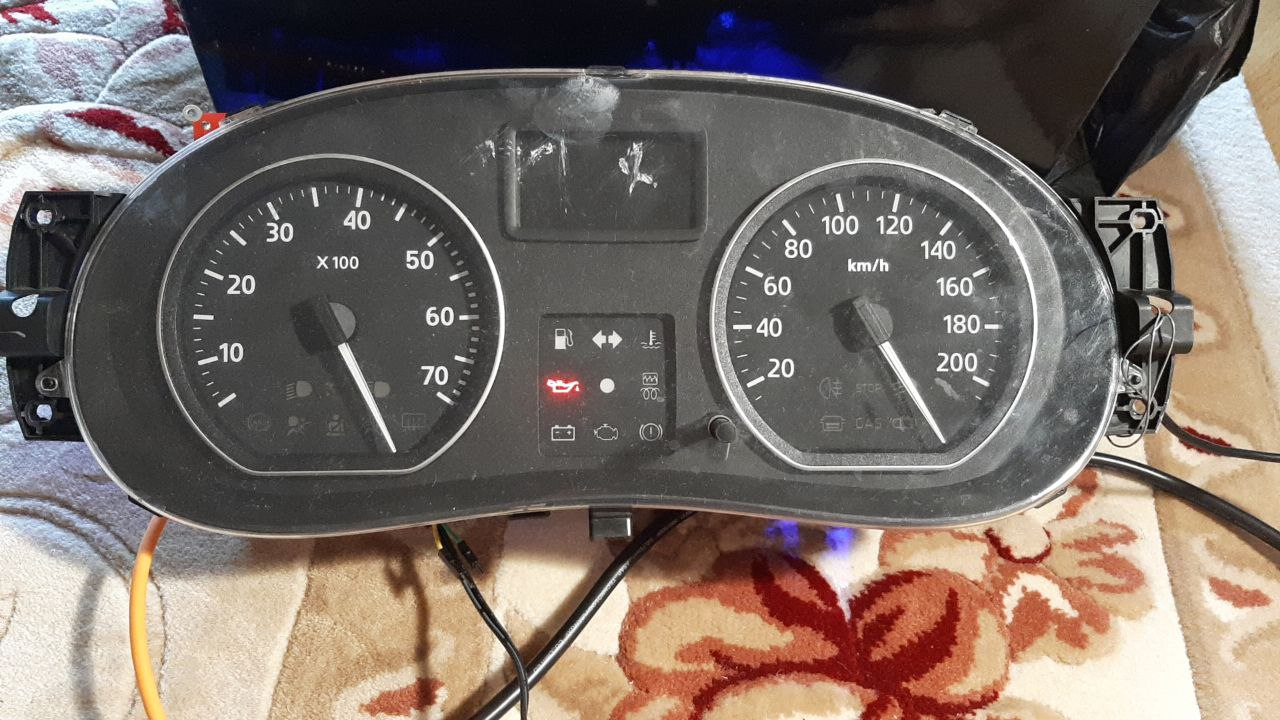oil: (543, 377, 585, 398)
